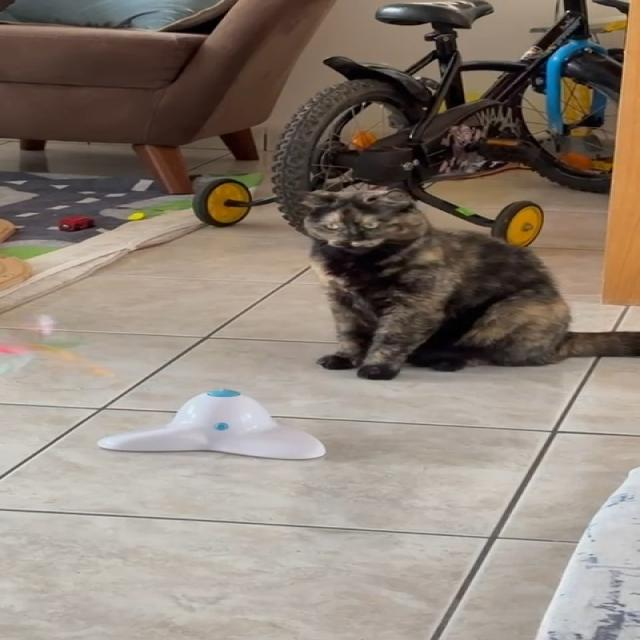authorized: (294, 188, 638, 380)
